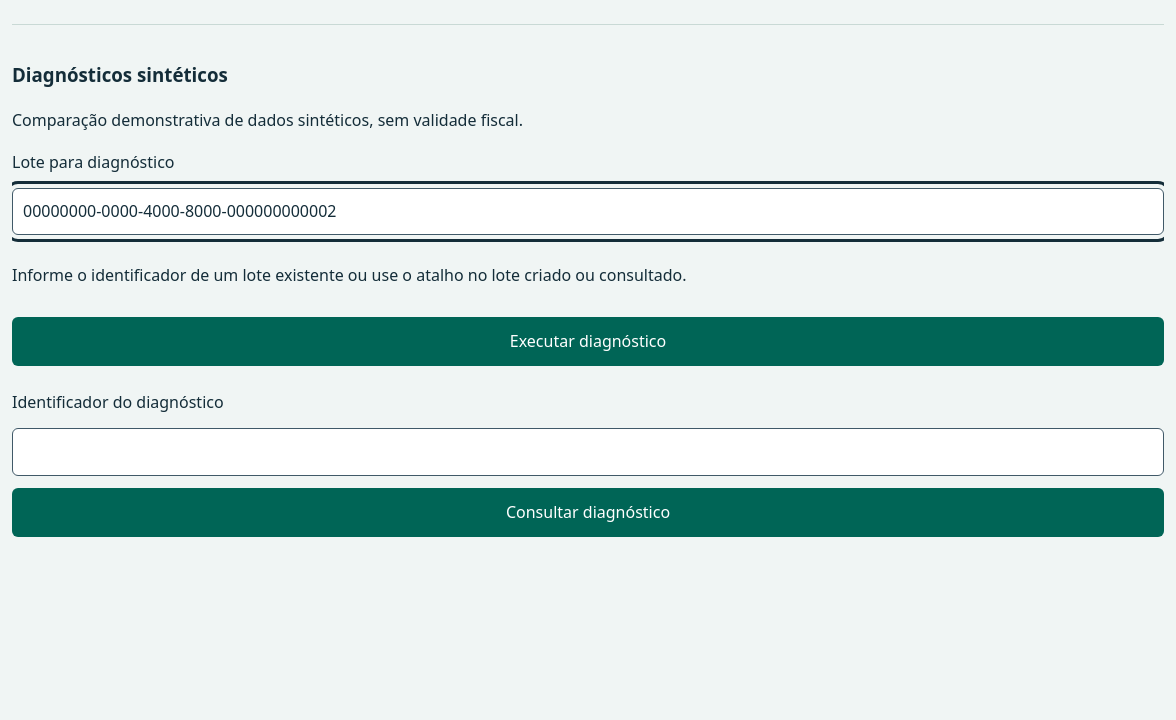
Test: allows organization_admin to create a known batch without an idempotency key
Click the button "Executar diagnóstico": (588, 342) [12,317,1164,366]
(page scrolled)
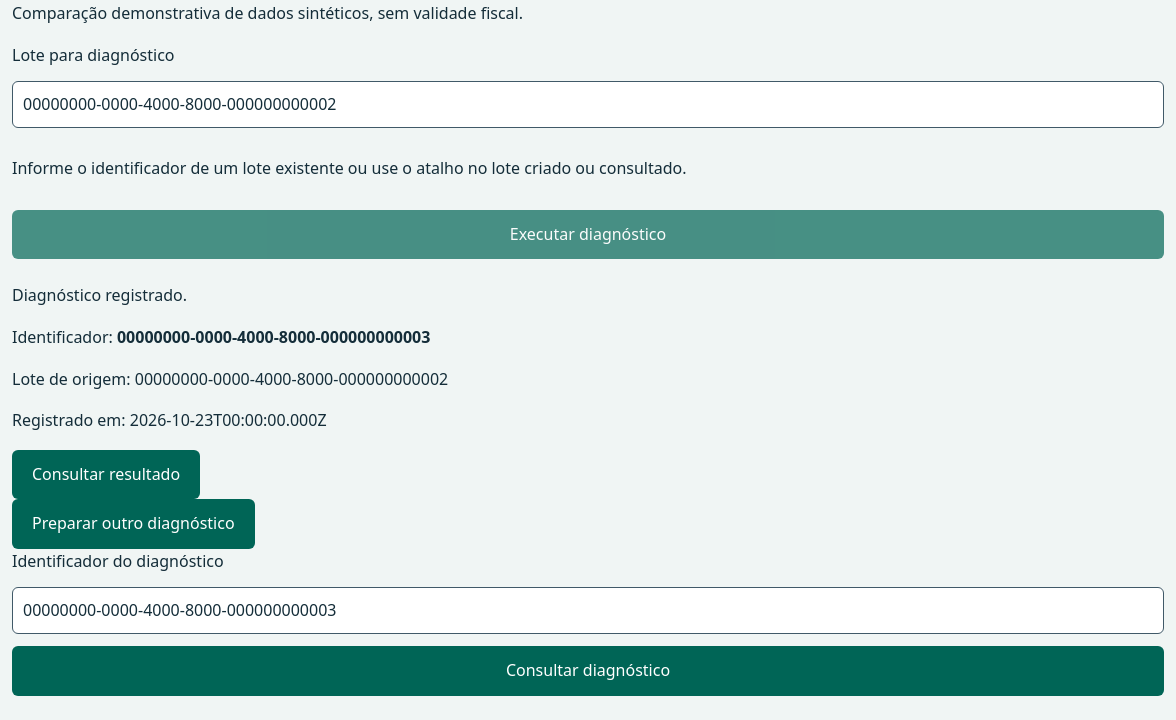
Check: the text "Diagnóstico registrado." is shown, box [12,284,187,306]
Check: the field labelled "Identificador do diagnóstico" holds "00000000-0000-4000-8000-000000000003", box [12,586,1164,634]
